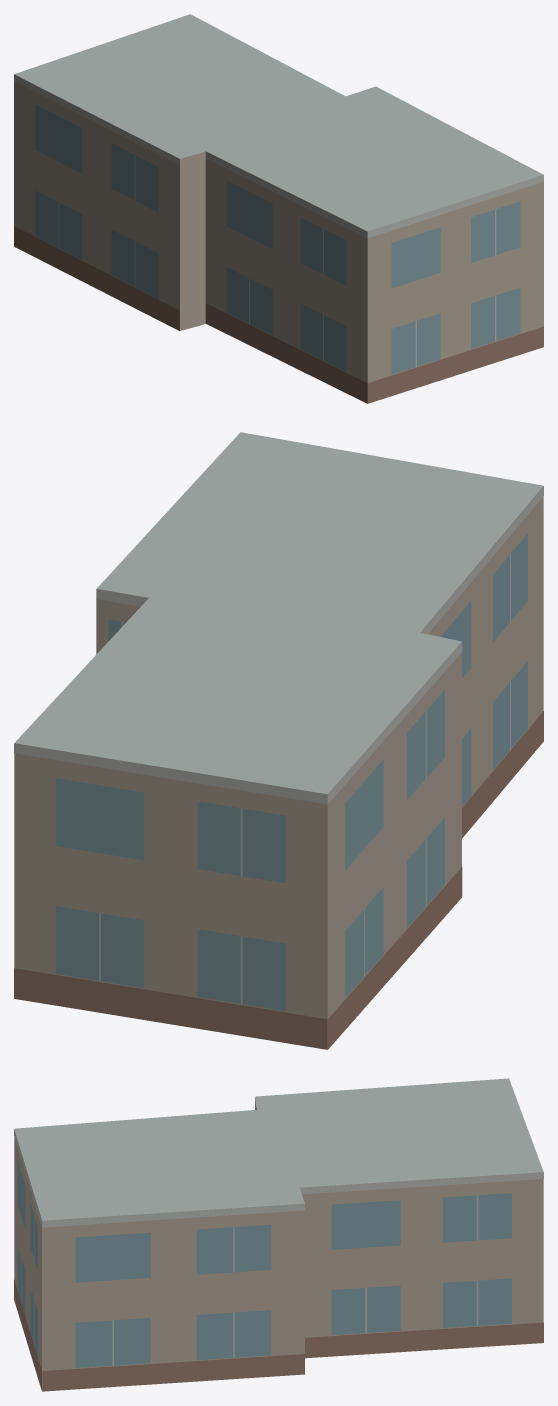
File: survey-upis-32472235.glb
The picture shows the model from 3 angles, top to bottom: view 1: azimuth 30°, elevation 25°; view 2: azimuth 150°, elevation 25°; view 3: azimuth 270°, elevation 25°; orthographic projection. The views are drawn at different scales.
Parts seen in each view (by area): view 1: survey-upis-32472235.tmp; view 2: survey-upis-32472235.tmp; view 3: survey-upis-32472235.tmp.
Part boxes in pixels (x1=…): survey-upis-32472235.tmp: x1=14, y1=14, x2=543, y2=403; survey-upis-32472235.tmp: x1=14, y1=432, x2=543, y2=1049; survey-upis-32472235.tmp: x1=14, y1=1078, x2=543, y2=1391.
Size of the model in its own units: 10.91 by 6.1 by 17.15.
